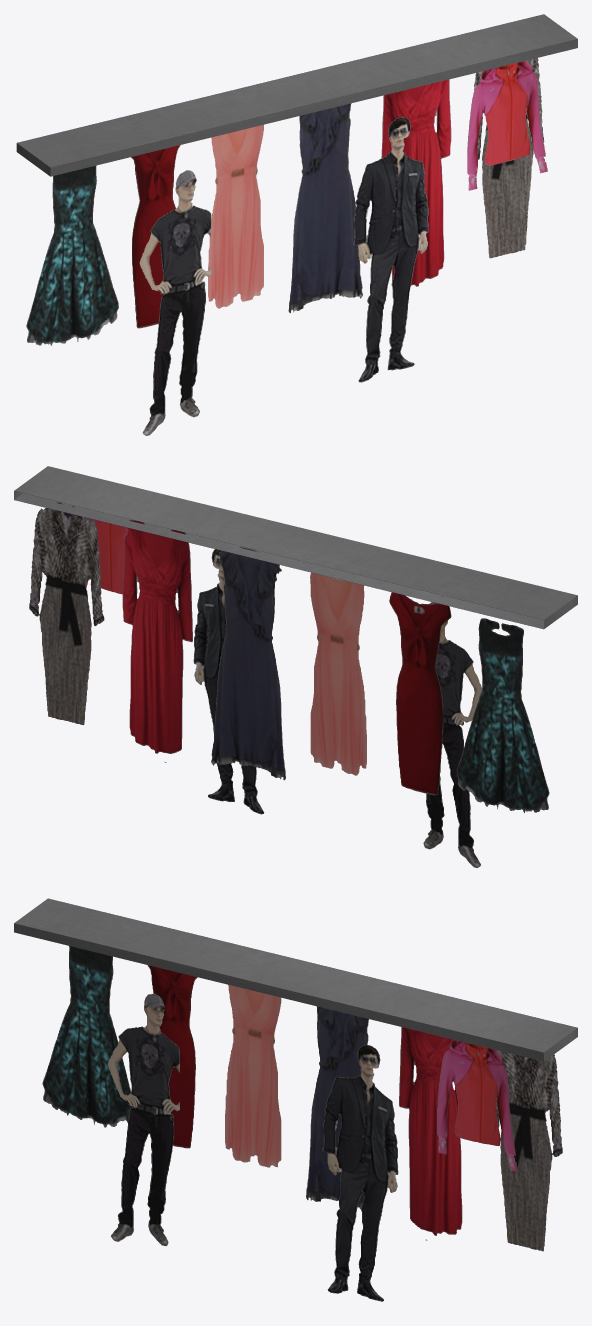
3 views of the same model, one above another, from view 1: azimuth 30°, elevation 25°; view 2: azimuth 150°, elevation 25°; view 3: azimuth 330°, elevation 25° (orthographic).
Parts seen in each view (by area): view 1: sd_06; view 2: sd_06; view 3: sd_06.
Boxes of the visible parts, left/top/right/bottom form: sd_06: left=16, top=14, right=577, bottom=435; sd_06: left=14, top=466, right=577, bottom=867; sd_06: left=14, top=898, right=577, bottom=1301.
Bounding box in the file's own units: 18.95 × 2.06 × 9.89.
1 material, 1 textured.
